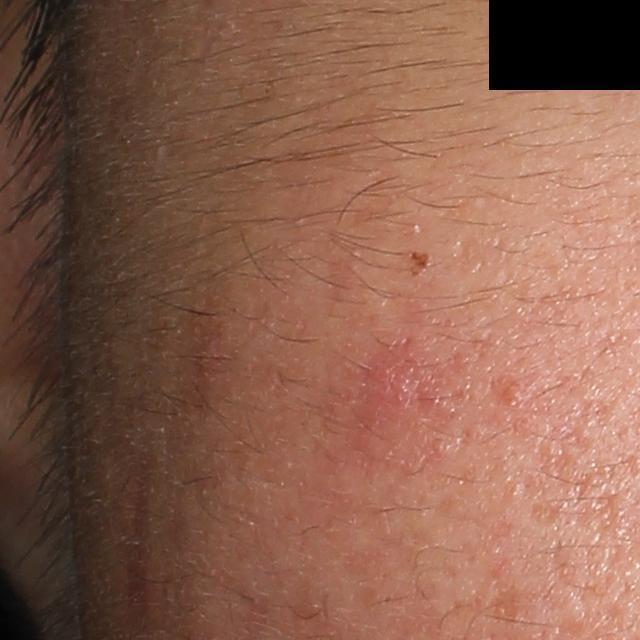nevus: (404, 248, 431, 279)
